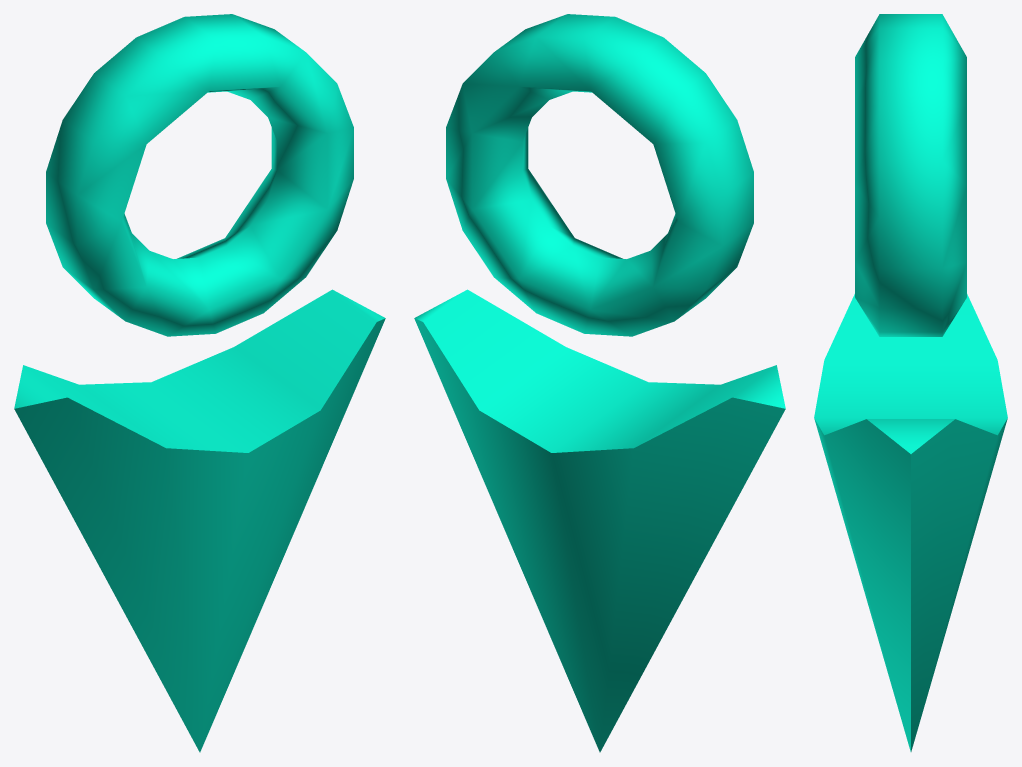
File: actiontag.fbx
3 views of the same model, side by side, from view 1: azimuth 30°, elevation 25°; view 2: azimuth 150°, elevation 25°; view 3: azimuth 270°, elevation 25° (orthographic).
Visible parts, largest first — view 1: icon001; view 2: icon001; view 3: icon001.
Boxes of the visible parts, x1,y1,x2,y2 form: icon001: [14, 14, 385, 752]; icon001: [414, 14, 785, 752]; icon001: [814, 14, 1007, 751].
Bounding box in the file's own units: 18.71 × 34.85 × 8.45.
